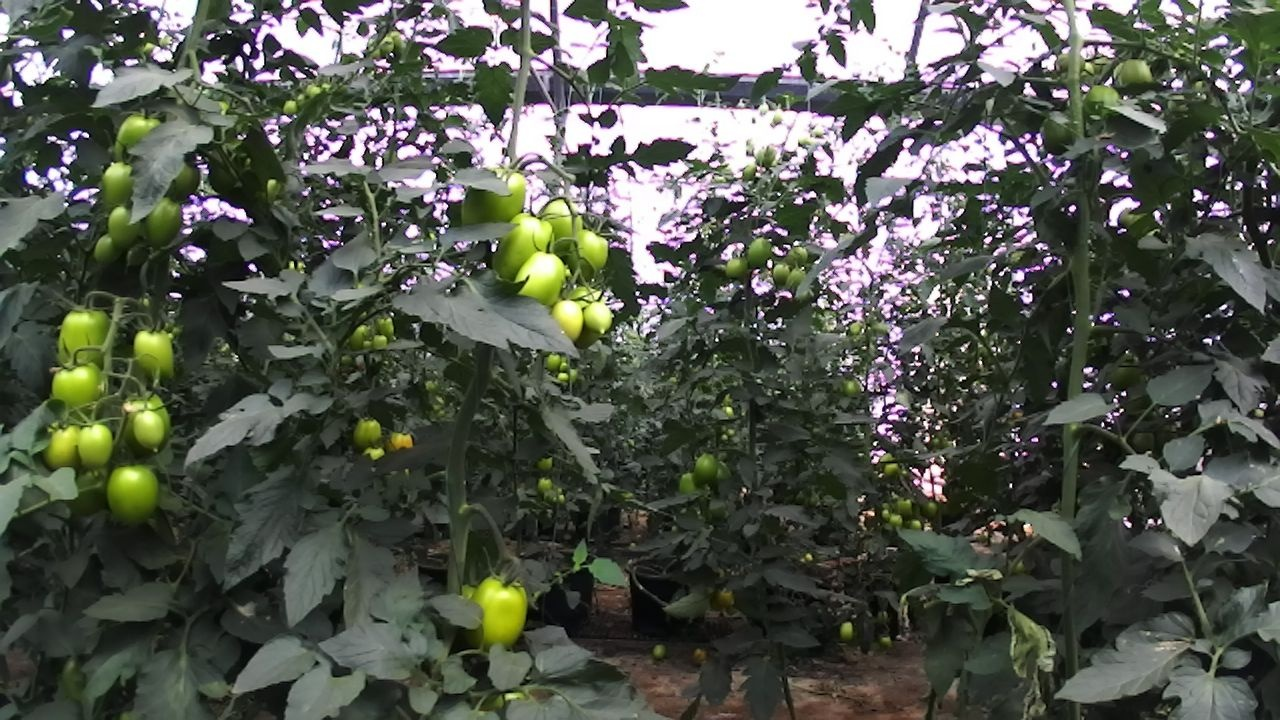tomato: (458, 563, 541, 668), (456, 157, 533, 245), (486, 205, 563, 290), (98, 453, 171, 538), (114, 382, 178, 464), (51, 295, 119, 372), (505, 242, 578, 313), (105, 105, 173, 181), (46, 354, 114, 428), (128, 319, 188, 389), (534, 193, 590, 261), (33, 413, 92, 477), (561, 223, 619, 285), (157, 153, 218, 210), (1029, 101, 1086, 162), (70, 413, 121, 475), (144, 190, 192, 255), (94, 154, 144, 213), (1108, 48, 1159, 102), (543, 294, 594, 348), (1078, 78, 1130, 130), (100, 200, 147, 254), (127, 404, 172, 460), (344, 408, 389, 452), (686, 445, 724, 493), (580, 298, 620, 339), (381, 419, 417, 464), (88, 229, 127, 268), (741, 232, 775, 273), (670, 468, 704, 505), (345, 318, 374, 356), (780, 264, 813, 296), (721, 251, 751, 281), (782, 241, 810, 272), (371, 312, 397, 343), (768, 259, 793, 287), (835, 616, 858, 646), (367, 329, 393, 355), (540, 350, 566, 374), (279, 96, 301, 120), (534, 473, 555, 495)
